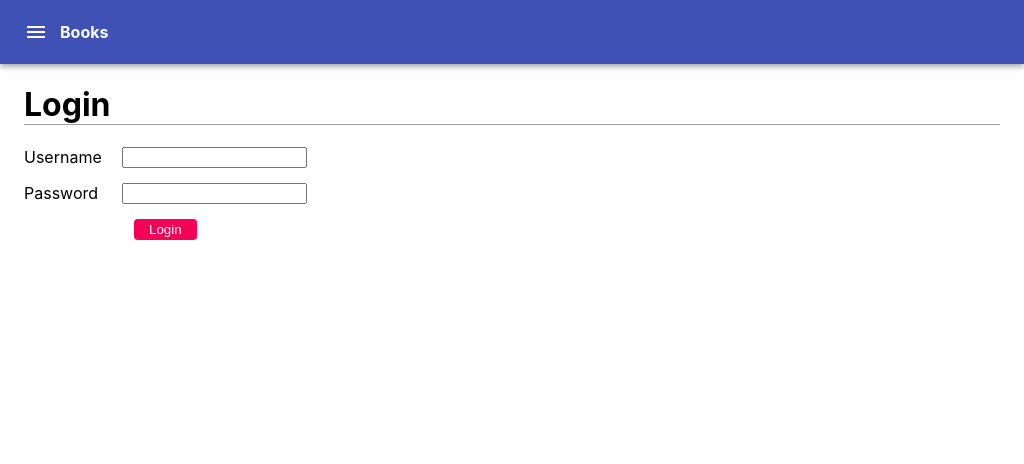
Books › should show placeholder text without books
The image size is (1024, 464).
In the field with id "username": {"x": 215, "y": 158} [122, 147, 307, 168], type "testUser"
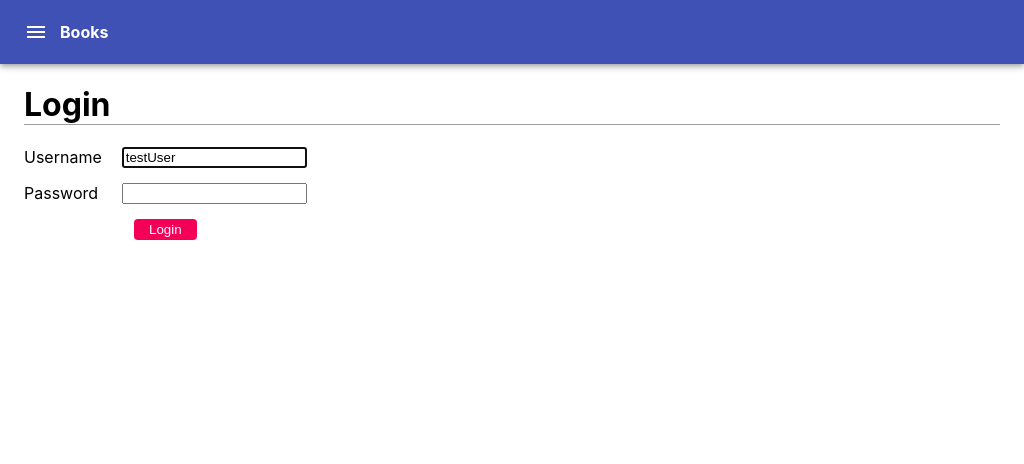
In the password field labelled "Password": {"x": 215, "y": 194} [122, 183, 307, 204], type "testPassword"
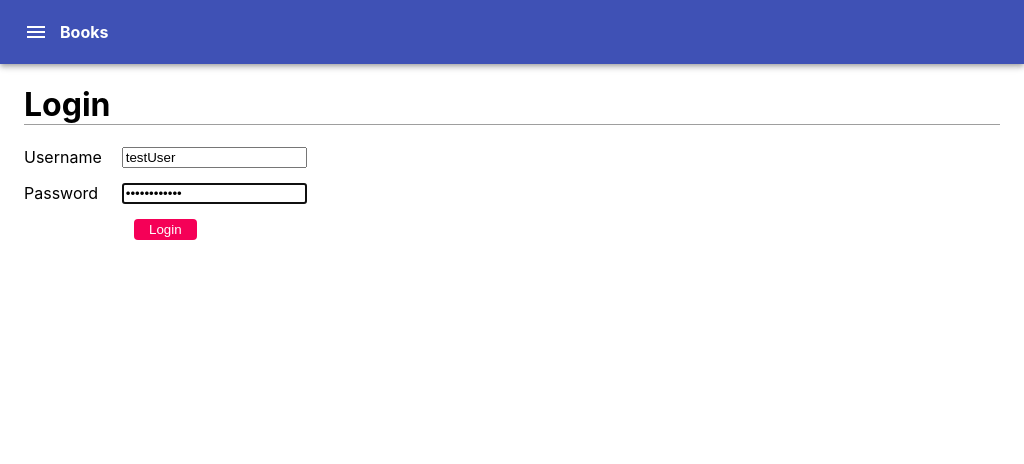
Click the button with class "login-button": {"x": 166, "y": 230} [134, 219, 197, 240]
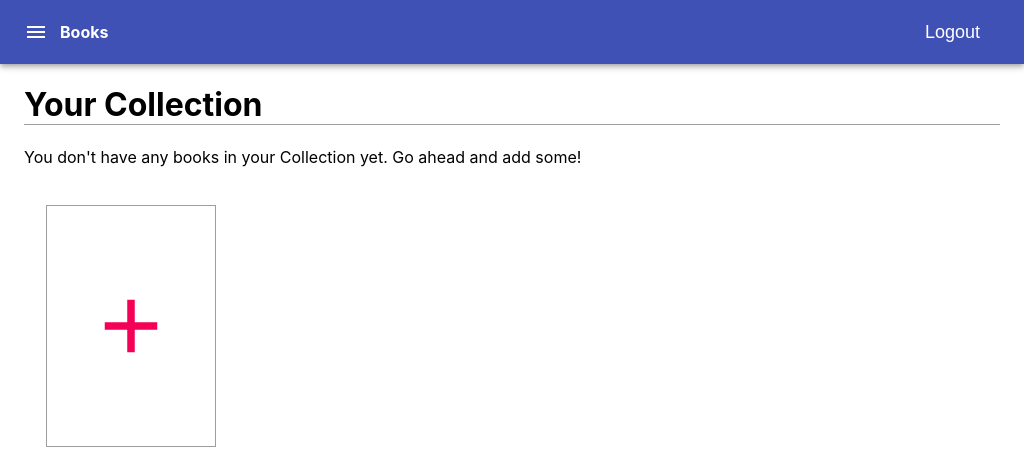
Expected: the text "You don't have any books in your Collection yet. Go ahead and add some!" is shown, [24, 147, 581, 167]
